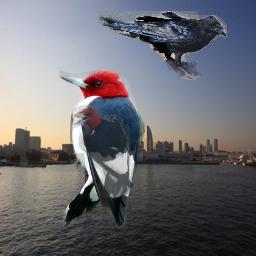Crow: (98, 11, 227, 80)
Woodpecker: (59, 65, 145, 233), (72, 104, 138, 198)
